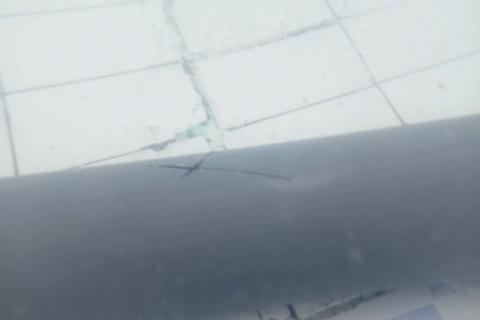keretakan: (143, 151, 294, 186)
